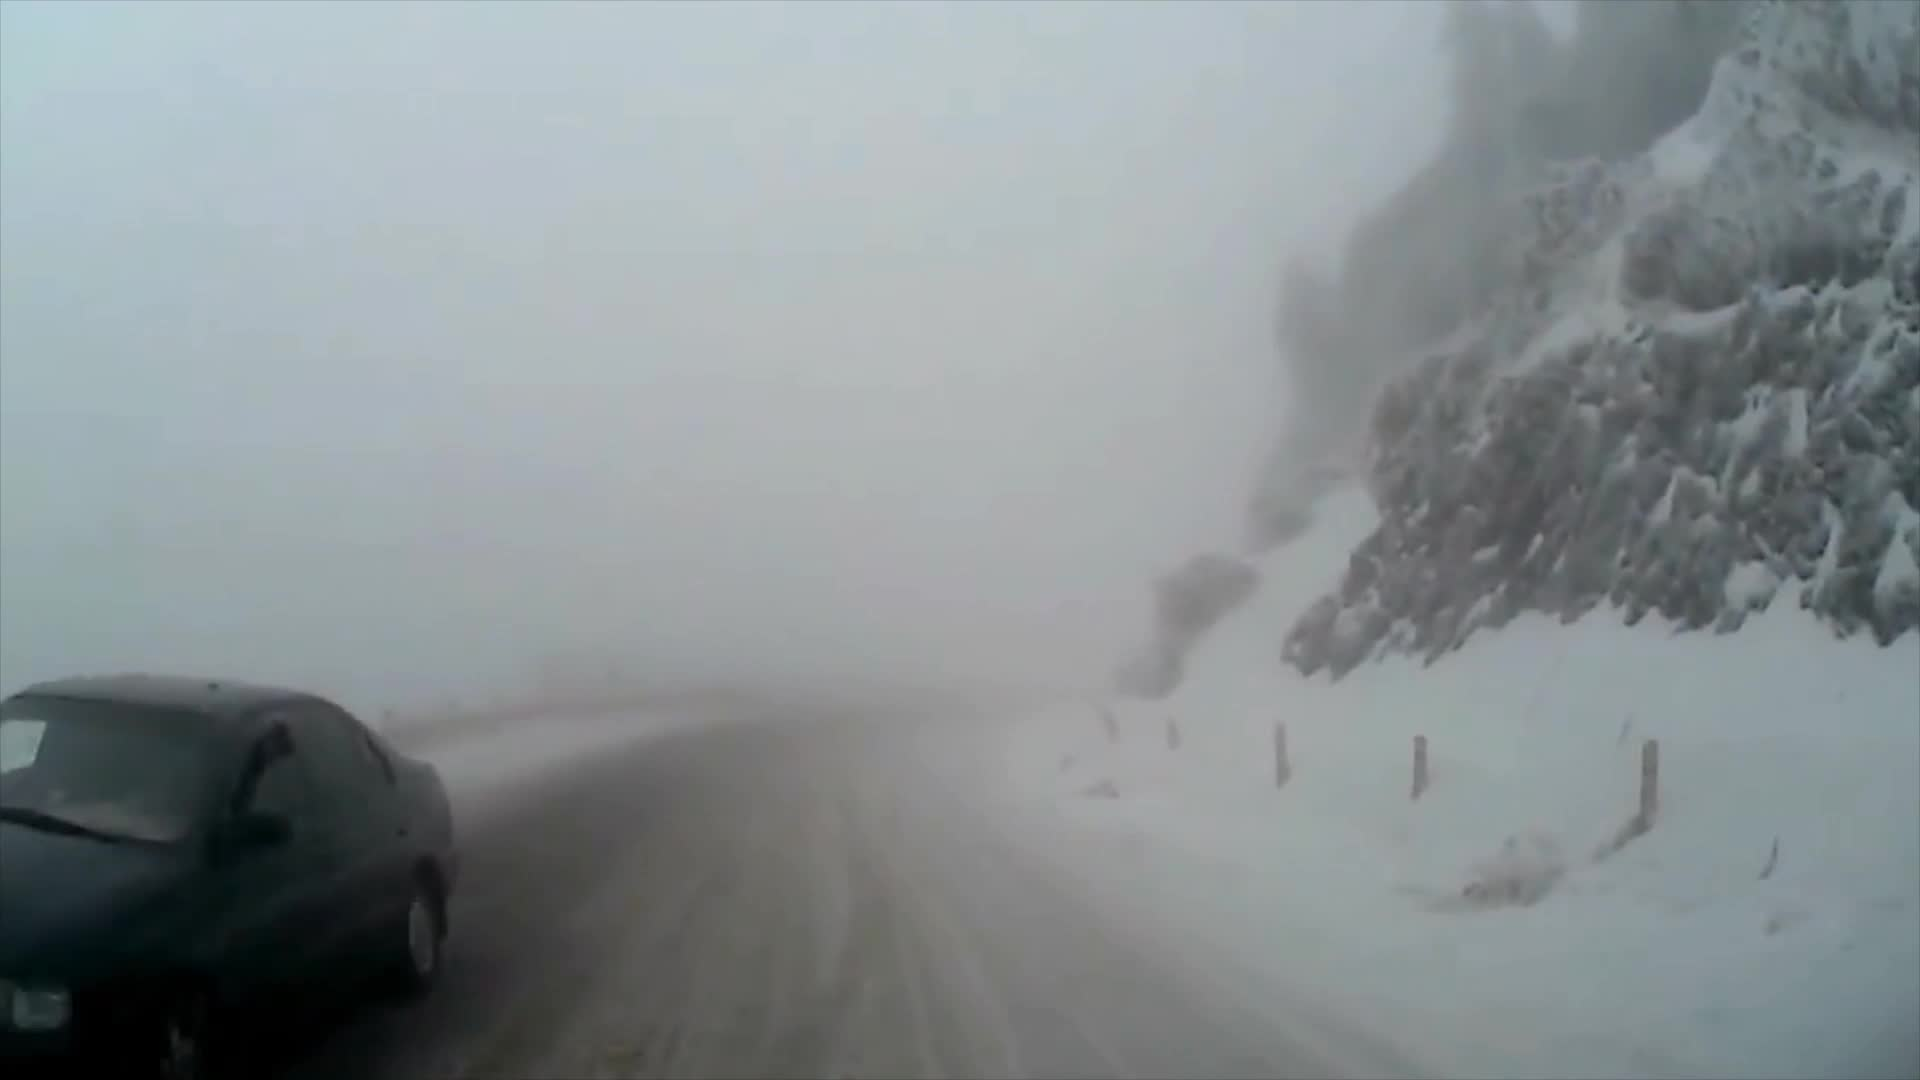vehicle: (0, 670, 462, 1080)
